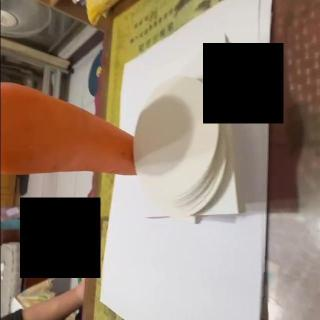carrot: (0, 81, 136, 177)
